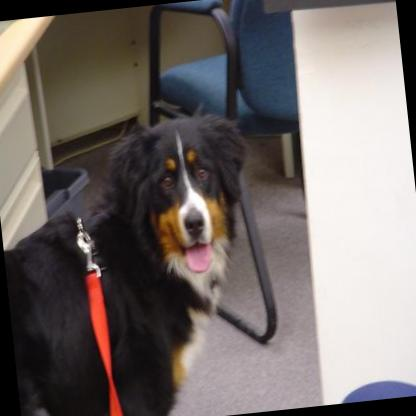Bernese_mountain_dog: (0, 92, 269, 416)
